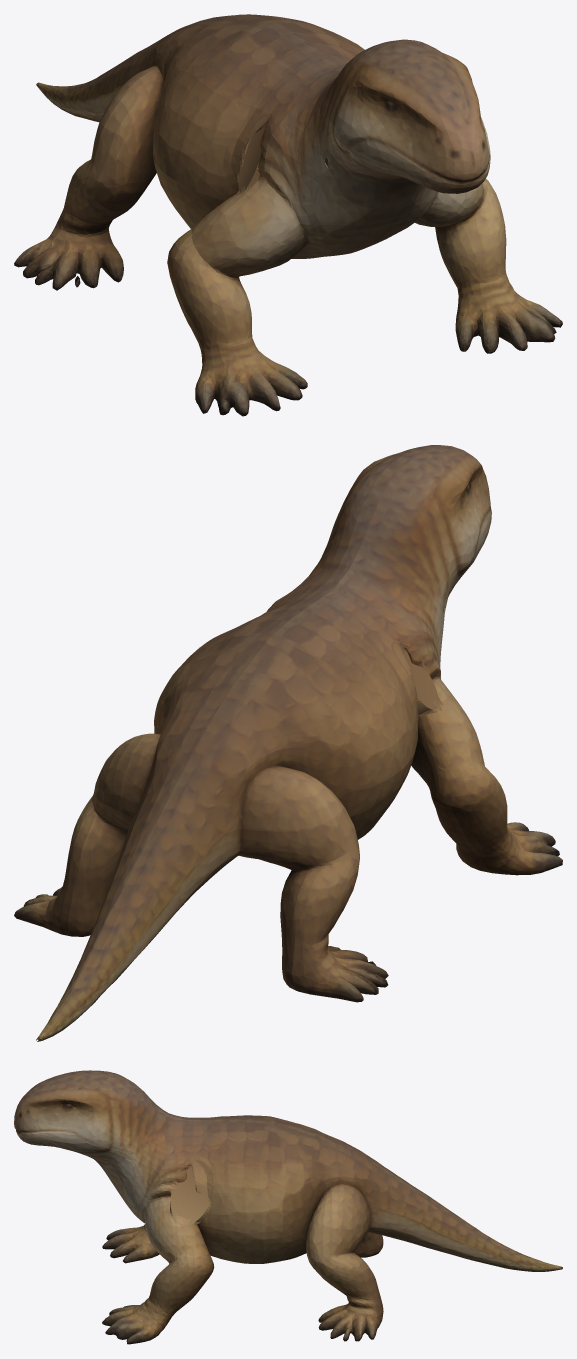
The picture shows the model from 3 angles, top to bottom: view 1: azimuth 30°, elevation 25°; view 2: azimuth 150°, elevation 25°; view 3: azimuth 270°, elevation 25°; orthographic projection. The views are drawn at different scales.
Parts seen in each view (by area): view 1: geometry_0, CASEA_SHOULDER_SKIN; view 2: geometry_0, CASEA_SHOULDER_SKIN; view 3: geometry_0, CASEA_SHOULDER_SKIN.001.
Boxes of the visible parts, x1,y1,x2,y2 form: geometry_0: [14, 14, 562, 416]; CASEA_SHOULDER_SKIN: [236, 114, 269, 195]; geometry_0: [14, 445, 562, 1041]; CASEA_SHOULDER_SKIN: [391, 640, 443, 715]; geometry_0: [14, 1070, 562, 1344]; CASEA_SHOULDER_SKIN.001: [170, 1157, 213, 1226].
Size of the model in its own units: 0.573 by 0.5208 by 1.2.
3 materials, 1 textured.
